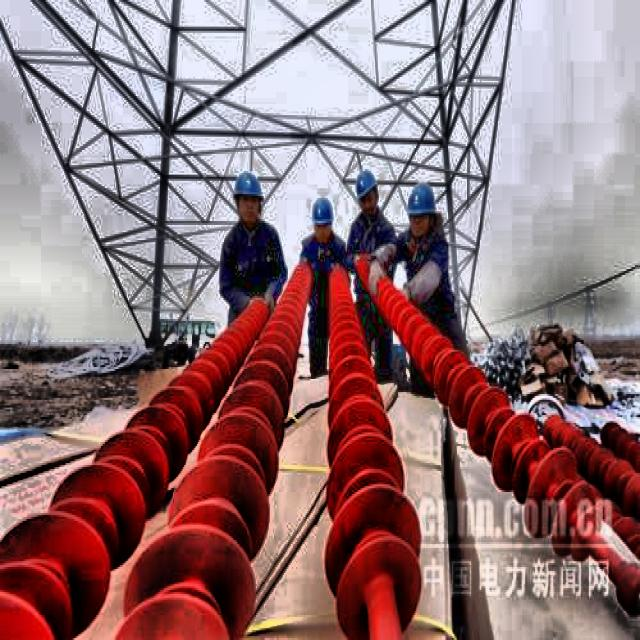helmet: (229, 165, 269, 229), (402, 183, 442, 246), (352, 167, 380, 215), (309, 196, 336, 244)
